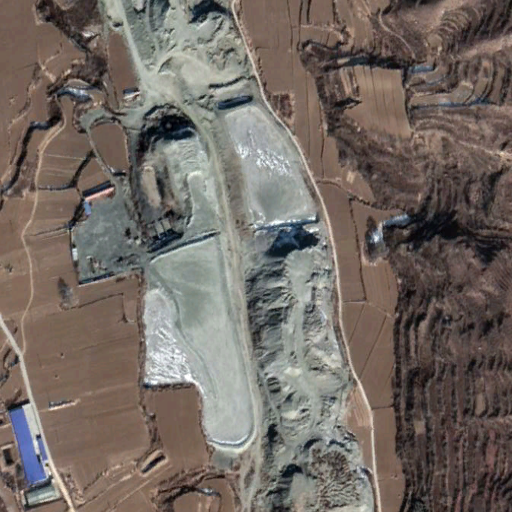tp: (155, 224, 260, 451), (218, 105, 323, 230)
